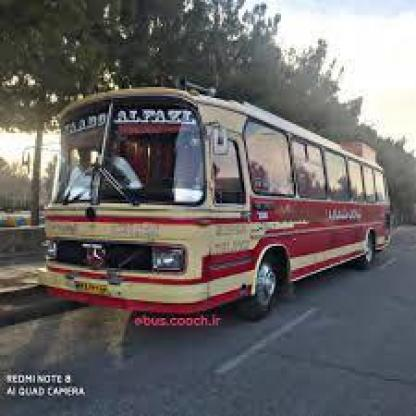Bus: (43, 76, 401, 322)
